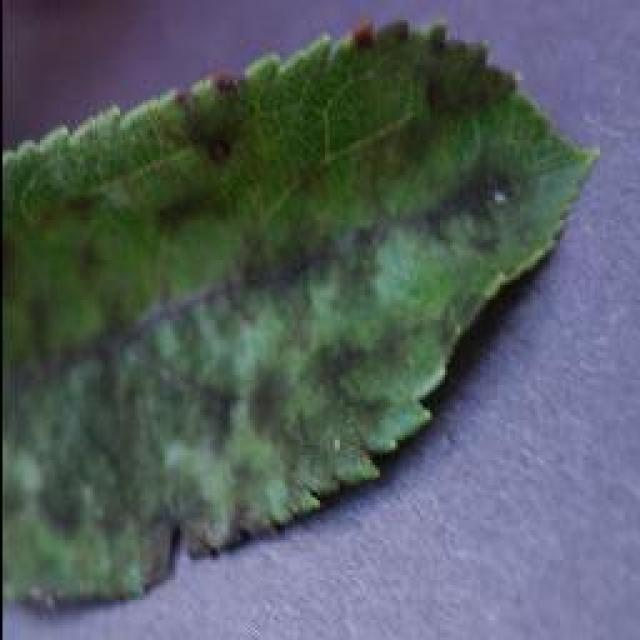apple scab disease: (0, 15, 600, 613)
